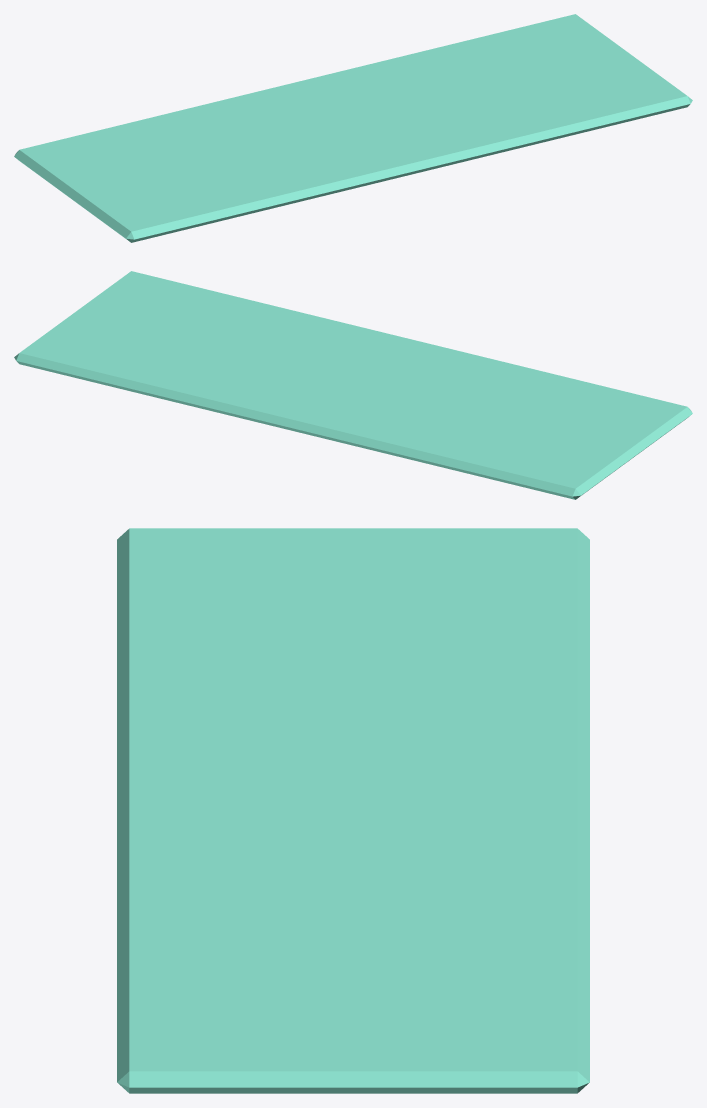
3 views of the same model, one above another, from view 1: azimuth 30°, elevation 25°; view 2: azimuth 150°, elevation 25°; view 3: azimuth 270°, elevation 25° (orthographic). The views are drawn at different scales.
Parts seen in each view (by area): view 1: Exercise mat; view 2: Exercise mat; view 3: Exercise mat.
Part boxes in pixels (x1,y1,x2,y2): Exercise mat: (14, 14, 692, 242); Exercise mat: (14, 271, 692, 499); Exercise mat: (117, 528, 589, 1093).
Size of the model in its own units: 1.8 by 0.034 by 0.65.
1 material, 1 textured.
